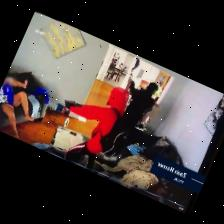person: (0, 77, 32, 138), (122, 80, 157, 128), (129, 59, 138, 75)
